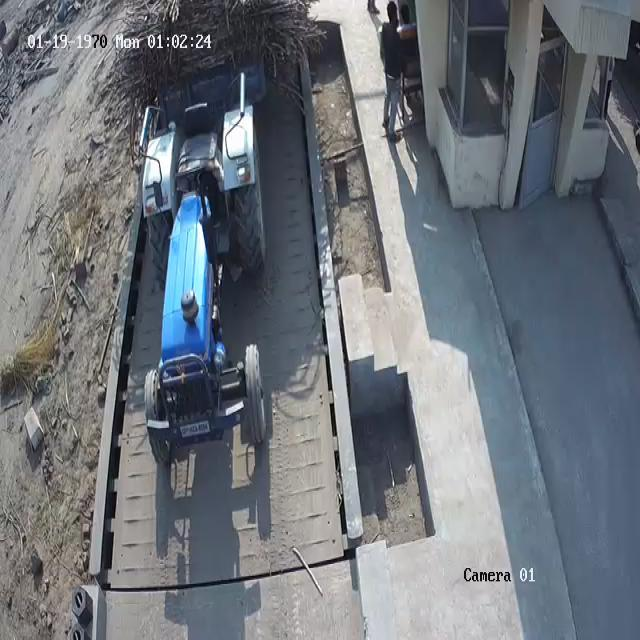Tratores - v5 YOLO V8L 2024-11-13: (131, 84, 270, 461)
